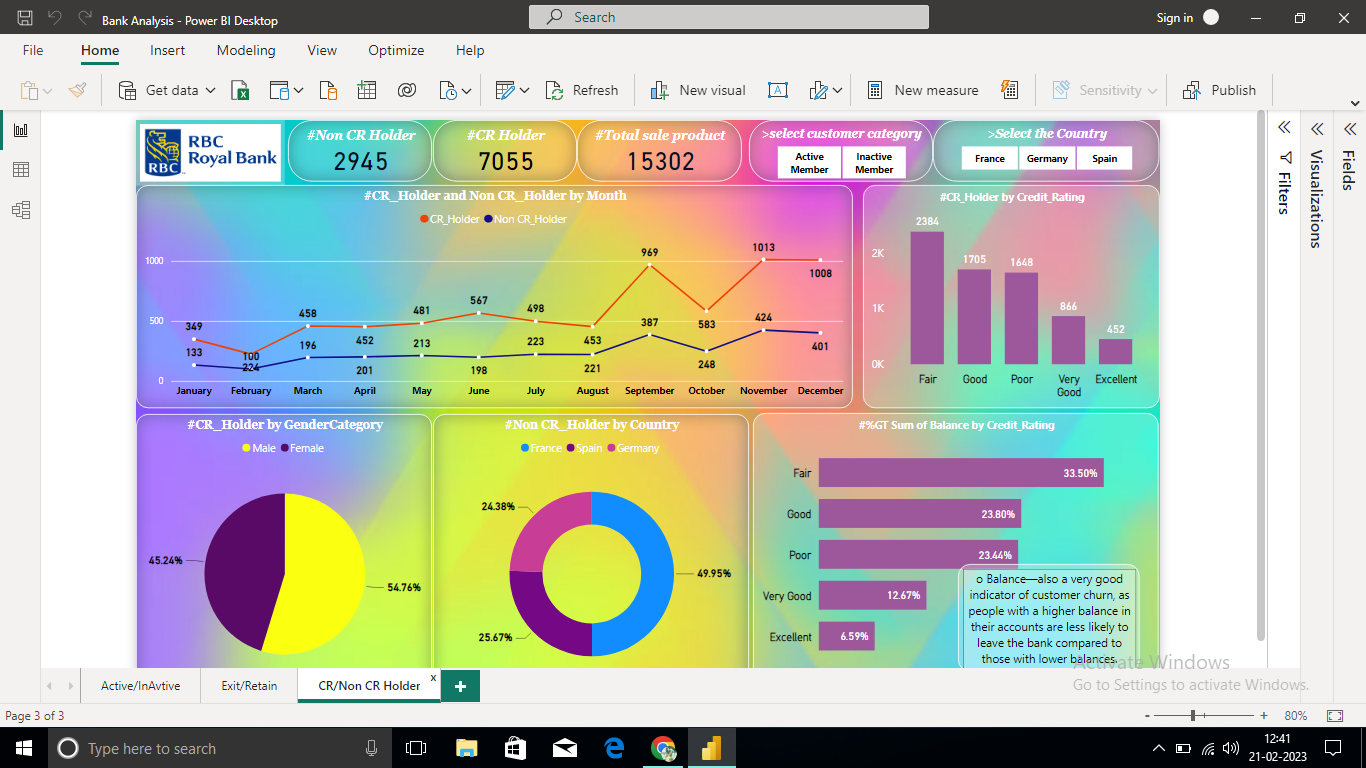

What the dashboard file says about the page in this screenshot:
{"tool":"powerbi","page":{"name":"CR/Non CR Holder","canvas":[1280,720],"ordinal":2},"visuals":[{"type":"card","title":"#Non CR Holder","fields":{"Values":["calculation table.Non CR_Holder"]},"box":[189.9,0,180,76.5],"z":0},{"type":"clusteredBarChart","title":"#%GT Sum of Balance by Credit_Rating","fields":{"Category":["Bank_Churn.Credit_Rating"],"Y":["Sum(Bank_Churn.Balance)"]},"box":[771.8,366.7,507.4,352.9],"z":0,"group":"g1"},{"type":"card","title":"#CR Holder","fields":{"Values":["calculation table.CR_Holder"]},"box":[371.3,0,180,76.5],"z":1000},{"type":"shape","box":[1027.5,555.5,226.8,134.6],"z":1000,"group":"g1"},{"type":"card","title":"#Total sale product","fields":{"Values":["calculation table.Total Sold_Products"]},"box":[551.3,0,205.5,76.5],"z":2000},{"type":"slicer","title":">Select the Country","fields":{"Values":["Geography.GeographyLocation"]},"box":[996.4,0,283.5,76.5],"z":3000},{"type":"pieChart","title":"#CR_Holder by GenderCategory","fields":{"Category":["Gender.GenderCategory"],"Y":["calculation table.CR_Holder"]},"box":[0,367.1,370,352.9],"z":4000},{"type":"clusteredColumnChart","title":"#CR_Holder by Credit_Rating","fields":{"Y":["calculation table.CR_Holder"],"Category":["Bank_Churn.Credit_Rating"]},"box":[908.5,80.8,371.3,279.2],"z":5000},{"type":"textbox","box":[0,81,371,279],"z":6000},{"type":"group","id":"g1","title":"Group 1","box":[771.8,366.7,507.4,352.9],"z":7000},{"type":"donutChart","title":"#Non CR_Holder by Country","fields":{"Category":["Geography.GeographyLocation"],"Y":["calculation table.Non CR_Holder"]},"box":[371.3,367.1,395,352.9],"z":7001},{"type":"lineChart","title":"#CR_Holder and Non CR_Holder by Month","fields":{"Category":["Datemaster.Date.Variation.Date Hierarchy.Month"],"Y":["calculation table.CR_Holder","calculation table.Non CR_Holder"]},"box":[0,80.8,895.7,279.2],"z":7002},{"type":"image","box":[0,0,185.7,82.2],"z":7003},{"type":"slicer","title":">select customer category","fields":{"Values":["ActiveCustomer.ActiveCategory"]},"box":[766.8,0,229.6,76.5],"z":7004}]}

Visuals, with their boxes on the page's 1280x720 design canvas (x1, y1, x2, y2). These are canvas units, not pixel positions in the 1366x768 screenshot, which may show the page scaled, cropped or inside an application window:
"#Non CR Holder" card: detection(190, 0, 370, 76)
"#%GT Sum of Balance by Credit_Rating" clusteredBarChart: detection(772, 367, 1279, 720)
"#CR Holder" card: detection(371, 0, 551, 76)
shape: detection(1028, 556, 1254, 690)
"#Total sale product" card: detection(551, 0, 757, 76)
">Select the Country" slicer: detection(996, 0, 1280, 76)
"#CR_Holder by GenderCategory" pieChart: detection(0, 367, 370, 720)
"#CR_Holder by Credit_Rating" clusteredColumnChart: detection(908, 81, 1280, 360)
textbox: detection(0, 81, 371, 360)
"Group 1" group: detection(772, 367, 1279, 720)
"#Non CR_Holder by Country" donutChart: detection(371, 367, 766, 720)
"#CR_Holder and Non CR_Holder by Month" lineChart: detection(0, 81, 896, 360)
image: detection(0, 0, 186, 82)
">select customer category" slicer: detection(767, 0, 996, 76)
